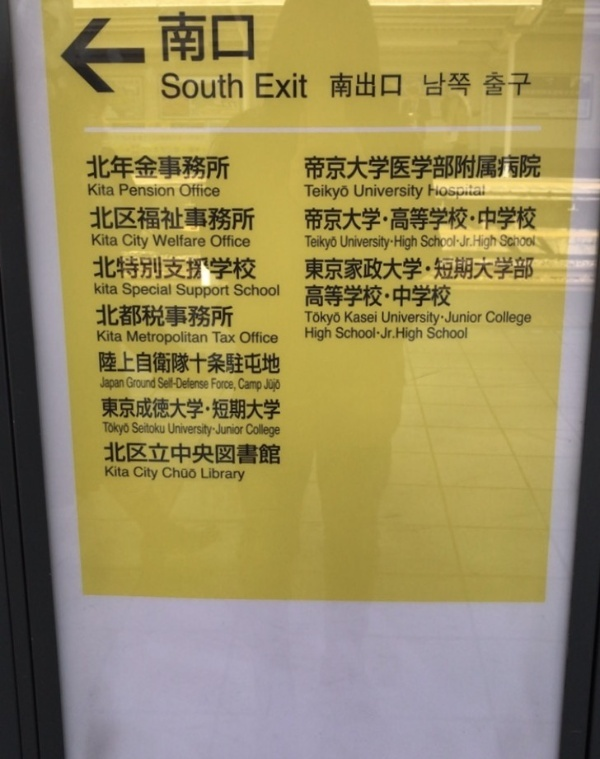text: (161, 11, 176, 64), (177, 11, 192, 64), (193, 11, 208, 64), (209, 11, 224, 64), (225, 11, 240, 64), (241, 11, 255, 64), (161, 71, 176, 102), (177, 71, 192, 102), (193, 71, 208, 102), (209, 71, 224, 102), (225, 71, 240, 102), (305, 203, 320, 233), (321, 203, 336, 233), (337, 203, 352, 233), (353, 203, 368, 233), (369, 203, 384, 233), (385, 203, 400, 233), (401, 203, 416, 233), (417, 203, 432, 233), (433, 203, 448, 233), (449, 203, 464, 233), (465, 203, 480, 233), (481, 203, 496, 233), (497, 203, 512, 233), (513, 203, 528, 233), (433, 70, 448, 99), (449, 70, 464, 99), (97, 154, 112, 183), (113, 154, 128, 183), (129, 154, 144, 183), (145, 154, 160, 183), (161, 154, 176, 183), (177, 154, 192, 183), (193, 154, 208, 183), (209, 154, 224, 183), (97, 255, 112, 284), (113, 255, 128, 284), (129, 255, 144, 284), (145, 255, 160, 284), (161, 255, 176, 284), (177, 255, 192, 284), (193, 255, 208, 284), (209, 255, 224, 284), (225, 255, 240, 284), (241, 255, 256, 284), (305, 153, 320, 182), (321, 153, 336, 182), (337, 153, 352, 182), (353, 153, 368, 182), (369, 153, 384, 182), (385, 153, 400, 182), (401, 153, 416, 182), (417, 153, 432, 182), (433, 153, 448, 182), (449, 153, 464, 182), (465, 153, 480, 182), (481, 153, 496, 182), (497, 153, 512, 182), (513, 153, 528, 182), (257, 72, 272, 100), (273, 72, 288, 100), (289, 72, 304, 100), (97, 205, 112, 233), (113, 205, 128, 233), (129, 205, 144, 233), (145, 205, 160, 233), (161, 205, 176, 233), (177, 205, 192, 233), (193, 205, 208, 233), (209, 205, 224, 233), (225, 205, 240, 233), (241, 205, 256, 233), (529, 153, 543, 182), (337, 73, 352, 100), (353, 73, 368, 100), (369, 73, 384, 100), (385, 73, 400, 100), (305, 255, 320, 282), (321, 255, 336, 282), (337, 255, 352, 282), (353, 255, 368, 282), (369, 255, 384, 282), (385, 255, 400, 282), (401, 255, 416, 282), (417, 255, 432, 282), (433, 255, 448, 282), (449, 255, 464, 282), (465, 255, 480, 282), (481, 255, 496, 282), (497, 255, 512, 282), (513, 255, 528, 282), (497, 72, 512, 98), (513, 72, 528, 98), (113, 395, 128, 421), (129, 395, 144, 421), (145, 395, 160, 421), (161, 395, 176, 421), (177, 395, 192, 421), (193, 395, 208, 421), (209, 395, 224, 421), (225, 395, 240, 421), (241, 395, 256, 421), (257, 395, 272, 421), (97, 303, 112, 328), (113, 303, 128, 328), (129, 303, 144, 328), (145, 303, 160, 328), (161, 303, 176, 328), (177, 303, 192, 328), (193, 303, 208, 328), (209, 303, 224, 328), (113, 350, 128, 375), (129, 350, 144, 375), (145, 350, 160, 375), (161, 350, 176, 375), (177, 350, 192, 375), (193, 350, 208, 375), (209, 350, 224, 375), (225, 350, 240, 375), (241, 350, 256, 375), (257, 350, 272, 375), (113, 441, 128, 466), (129, 441, 144, 466), (145, 441, 160, 466), (161, 441, 176, 466), (177, 441, 192, 466), (193, 441, 208, 466), (209, 441, 224, 466), (225, 441, 240, 466), (241, 441, 256, 466), (257, 441, 272, 466), (305, 284, 320, 308), (321, 284, 336, 308), (337, 284, 352, 308), (353, 284, 368, 308), (369, 284, 384, 308), (385, 284, 400, 308), (401, 284, 416, 308), (417, 284, 432, 308), (433, 284, 448, 308), (98, 350, 112, 375), (484, 72, 496, 98), (86, 154, 96, 183), (101, 395, 112, 421), (305, 183, 320, 202), (321, 183, 336, 202), (369, 183, 384, 202), (385, 183, 400, 202), (401, 183, 416, 202), (433, 183, 448, 202), (449, 183, 464, 202), (465, 183, 480, 202), (481, 234, 497, 251), (129, 233, 144, 251), (529, 203, 538, 233), (305, 235, 320, 253), (321, 235, 336, 253), (353, 235, 368, 253), (369, 235, 384, 253), (385, 235, 400, 253), (401, 235, 416, 253), (305, 310, 320, 328), (321, 310, 336, 328), (497, 310, 512, 328), (513, 310, 528, 328), (354, 183, 368, 202), (129, 282, 144, 299), (145, 282, 160, 299), (209, 467, 224, 484), (225, 467, 240, 484), (433, 234, 448, 251), (449, 234, 464, 251), (465, 234, 480, 251), (337, 326, 352, 343), (353, 326, 368, 343), (369, 326, 384, 343), (385, 326, 400, 343), (401, 326, 416, 343), (97, 232, 112, 248), (193, 283, 208, 299), (209, 283, 224, 299), (145, 465, 159, 482), (424, 70, 432, 99), (337, 183, 349, 202), (97, 183, 112, 198), (129, 183, 144, 198), (145, 183, 160, 198), (193, 183, 208, 198), (161, 234, 176, 249), (177, 234, 192, 249), (225, 234, 240, 249), (225, 303, 234, 328), (97, 328, 112, 343), (241, 378, 256, 393), (257, 423, 272, 438), (273, 441, 282, 466), (513, 234, 528, 249), (305, 327, 320, 342), (433, 326, 448, 341), (449, 326, 464, 341), (178, 283, 192, 299), (161, 183, 175, 198), (97, 282, 112, 296), (241, 284, 256, 298), (257, 284, 272, 298), (129, 330, 144, 344), (145, 330, 160, 344), (161, 330, 176, 344), (177, 330, 192, 344), (241, 331, 256, 345), (257, 331, 272, 345), (129, 375, 144, 389), (113, 422, 128, 436), (145, 422, 160, 436), (177, 422, 192, 436), (193, 422, 208, 436), (209, 422, 224, 436), (225, 422, 240, 436), (113, 464, 128, 478), (193, 377, 209, 390), (273, 395, 281, 421), (465, 70, 472, 99), (104, 441, 112, 466), (341, 235, 352, 253), (193, 330, 207, 344), (179, 183, 192, 198), (193, 234, 206, 249), (211, 234, 224, 249), (161, 377, 176, 390), (177, 377, 192, 390), (177, 467, 192, 480), (353, 311, 368, 324), (385, 311, 400, 324), (401, 311, 416, 324), (417, 311, 432, 324), (433, 311, 448, 324), (449, 311, 464, 324), (465, 311, 480, 324), (133, 465, 144, 482), (211, 378, 224, 392), (209, 183, 221, 198), (486, 310, 496, 328), (273, 350, 280, 375), (161, 282, 171, 299), (422, 234, 432, 251), (163, 467, 176, 480), (90, 205, 96, 233), (100, 377, 112, 391), (113, 377, 125, 391), (225, 378, 237, 392), (132, 422, 144, 436), (245, 423, 256, 438), (501, 234, 512, 249), (321, 327, 332, 342), (330, 73, 336, 100), (529, 255, 535, 282), (157, 11, 160, 64), (529, 72, 535, 98), (212, 331, 224, 344), (417, 183, 425, 202), (241, 234, 251, 249), (113, 328, 123, 343), (225, 154, 230, 183), (225, 331, 236, 344), (145, 375, 155, 389), (102, 422, 112, 436), (119, 183, 128, 198), (264, 378, 272, 393), (273, 378, 281, 393), (201, 467, 208, 484), (305, 72, 309, 100), (168, 422, 176, 436), (104, 464, 112, 478), (122, 233, 128, 251), (145, 233, 151, 251), (89, 183, 96, 198), (153, 234, 160, 249), (273, 423, 280, 438), (529, 234, 536, 249), (369, 311, 377, 324), (122, 282, 128, 299), (273, 284, 280, 298), (113, 232, 119, 248), (427, 183, 432, 202), (241, 71, 244, 102), (345, 311, 352, 324), (257, 378, 263, 393), (241, 467, 246, 484), (417, 326, 422, 343), (234, 284, 240, 298), (225, 283, 230, 299), (481, 183, 485, 202), (427, 326, 432, 341), (337, 310, 341, 328), (113, 282, 118, 296), (273, 331, 278, 345), (92, 232, 96, 248), (465, 326, 469, 341), (94, 255, 96, 284), (161, 422, 165, 436), (193, 467, 197, 480), (449, 284, 451, 308), (241, 422, 244, 436), (529, 310, 531, 328), (113, 183, 115, 198), (257, 255, 258, 284), (94, 282, 96, 296), (126, 375, 128, 389), (401, 73, 402, 100), (158, 377, 160, 390), (382, 311, 384, 324), (481, 311, 483, 324), (337, 235, 338, 253), (417, 235, 418, 253), (239, 378, 240, 393), (127, 330, 128, 344), (129, 422, 130, 436), (129, 464, 130, 478)
